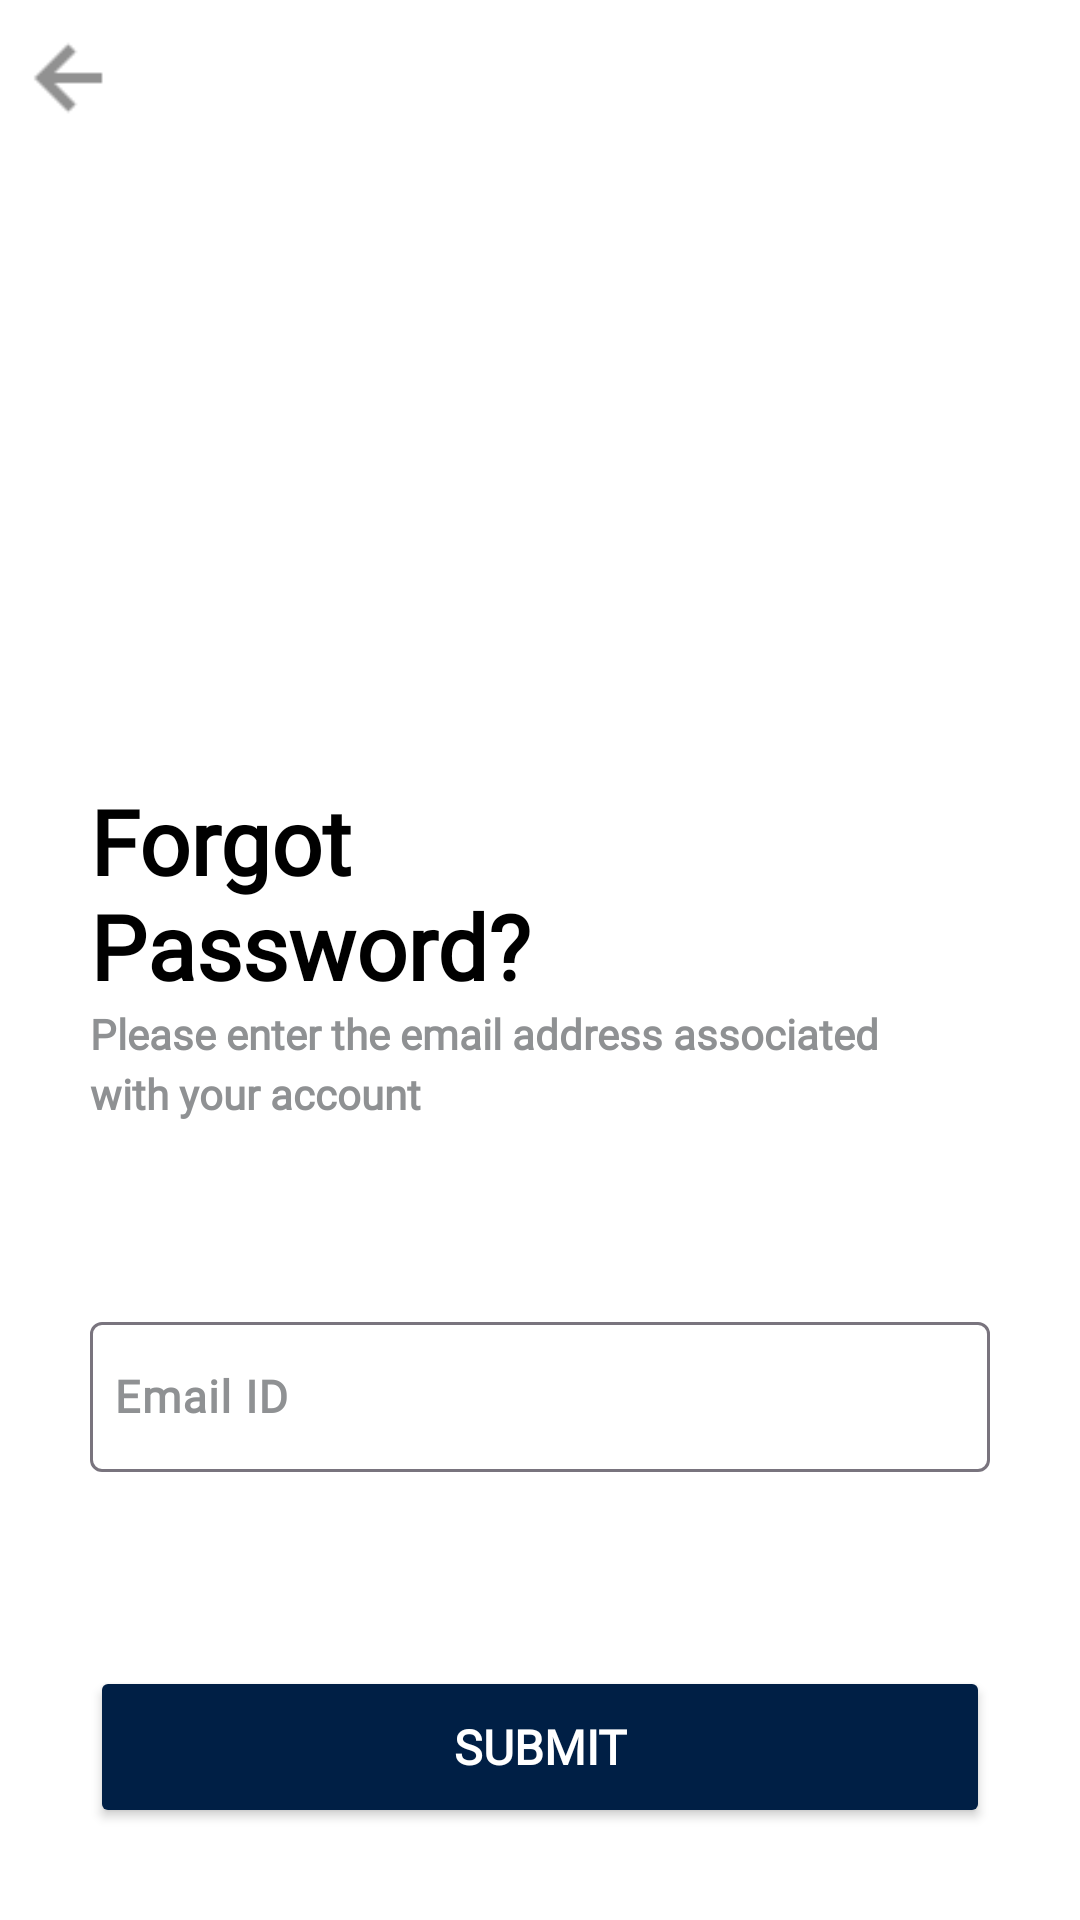

Locate icon controls on the screen. Image size 1080 x 1920, boxes as (left=x1, top=y1, right=x2, bottom=y2).
back: (left=34, top=44, right=103, bottom=112)
